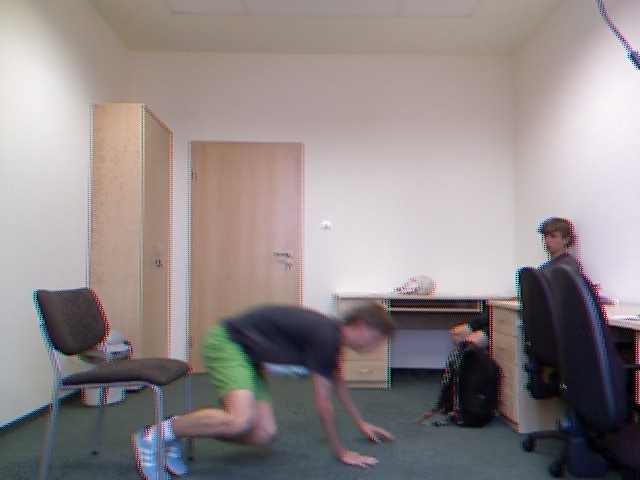fall: (119, 300, 406, 480)
not_fallen: (524, 211, 592, 286)
